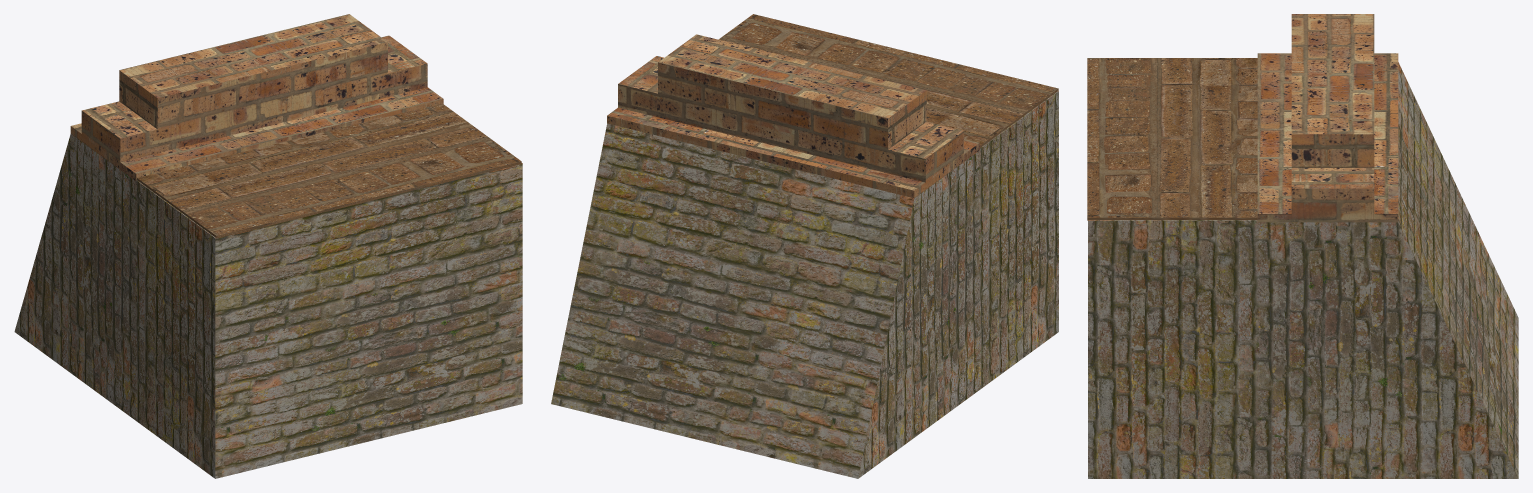
Rendered from StoneRampart.fbx.
3 views of the same model, side by side, from view 1: azimuth 30°, elevation 25°; view 2: azimuth 150°, elevation 25°; view 3: azimuth 270°, elevation 25° (orthographic). The views are drawn at different scales.
Parts seen in each view (by area): view 1: StoneRampartWithStair.001, Rampart, RampartFloor; view 2: StoneRampartWithStair.001, Rampart, RampartFloor; view 3: StoneRampartWithStair.001, RampartFloor, Rampart.
Boxes of the visible parts, x1,y1,x2,y2 form: StoneRampartWithStair.001: [14, 134, 522, 478]; Rampart: [70, 14, 443, 180]; RampartFloor: [137, 103, 521, 238]; StoneRampartWithStair.001: [551, 91, 1058, 478]; Rampart: [607, 34, 979, 198]; RampartFloor: [718, 14, 1058, 147]; StoneRampartWithStair.001: [1088, 62, 1518, 478]; RampartFloor: [1087, 58, 1257, 220]; Rampart: [1257, 14, 1398, 222].
Size of the model in its own units: 267 by 251 by 303.
